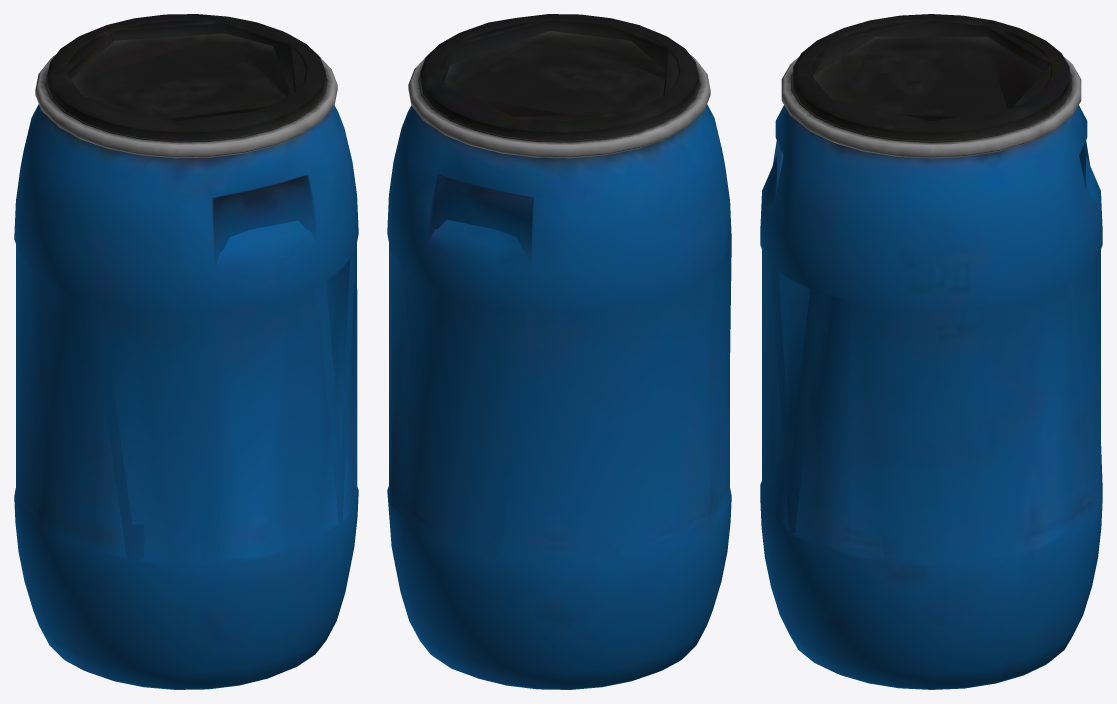
Rendered from Barrel_02.glb.
The picture shows the model from 3 angles, left to right: view 1: azimuth 30°, elevation 25°; view 2: azimuth 150°, elevation 25°; view 3: azimuth 270°, elevation 25°; orthographic projection.
Parts seen in each view (by area): view 1: Barrel_02, Barrel_02_lo; view 2: Barrel_02, Barrel_02_lo; view 3: Barrel_02, Barrel_02_lo.
Part boxes in pixels (x1=…): Barrel_02: x1=14, y1=14, x2=358, y2=689; Barrel_02_lo: x1=36, y1=20, x2=355, y2=564; Barrel_02: x1=387, y1=14, x2=731, y2=689; Barrel_02_lo: x1=403, y1=18, x2=731, y2=561; Barrel_02: x1=760, y1=14, x2=1102, y2=689; Barrel_02_lo: x1=770, y1=19, x2=1102, y2=563.
Bounding box in the file's own units: 0.4882 × 0.88 × 0.4847.
Materials: 1 (1 with a texture image).
